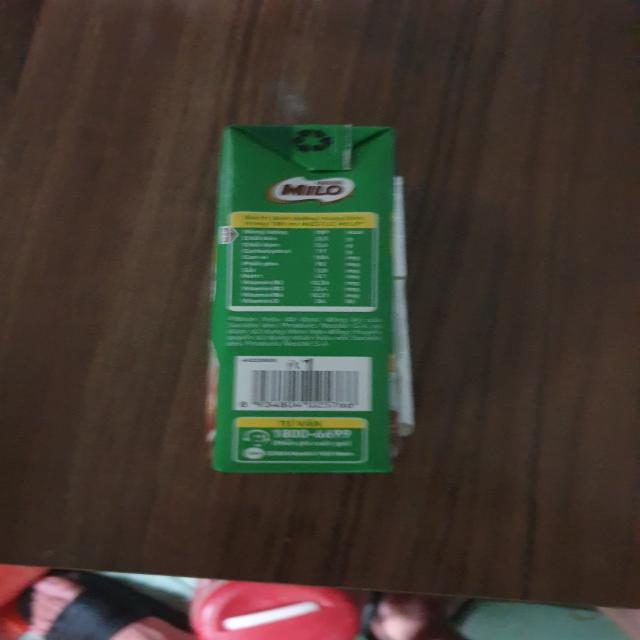Milo: (204, 119, 429, 477)
